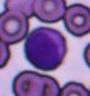L: (24, 27, 67, 70)
